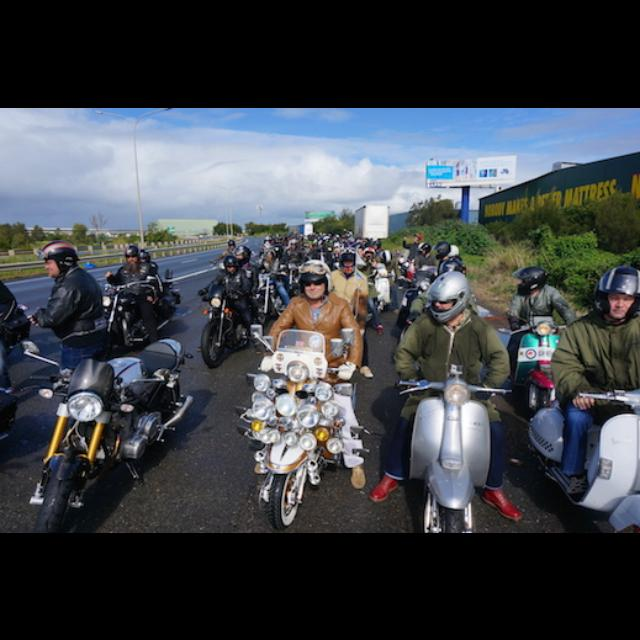With Helmet: (421, 267, 474, 325), (598, 258, 638, 324), (295, 256, 339, 310), (509, 258, 555, 296), (214, 242, 246, 278), (115, 240, 143, 268)
